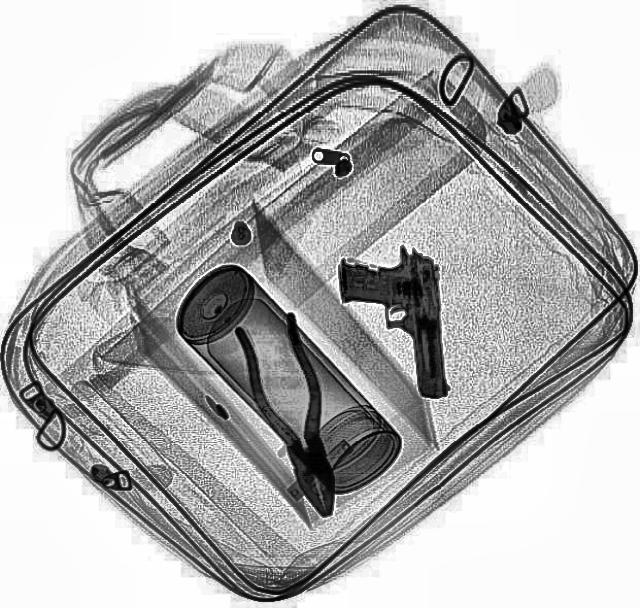Gun: (336, 243, 446, 401)
Pliers: (228, 309, 358, 523)
